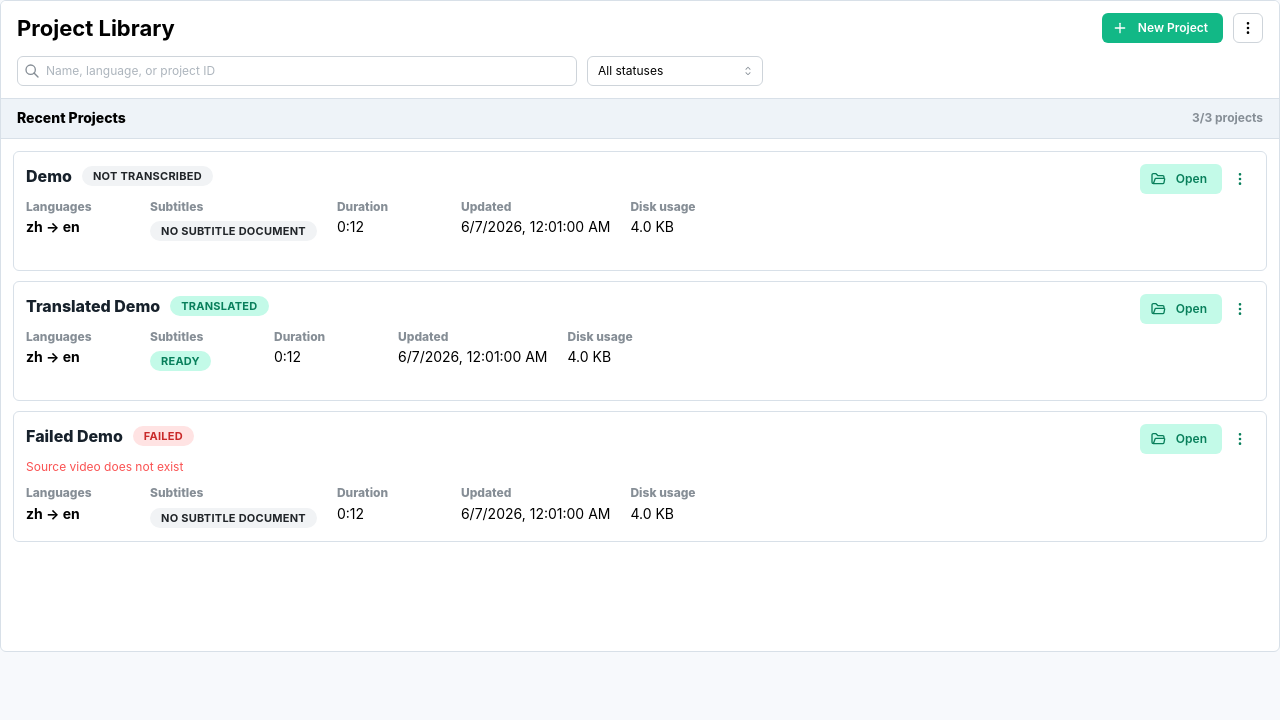
it: ProjectCenterPage › filters projects by search text and derived status
Check: the text "Translated Demo" is shown, box x1=26 y1=294 x2=160 y2=319
Type "Failed" into the field named "Search projects".
click(297, 71); type("Failed")  # box x1=17 y1=56 x2=577 y2=86
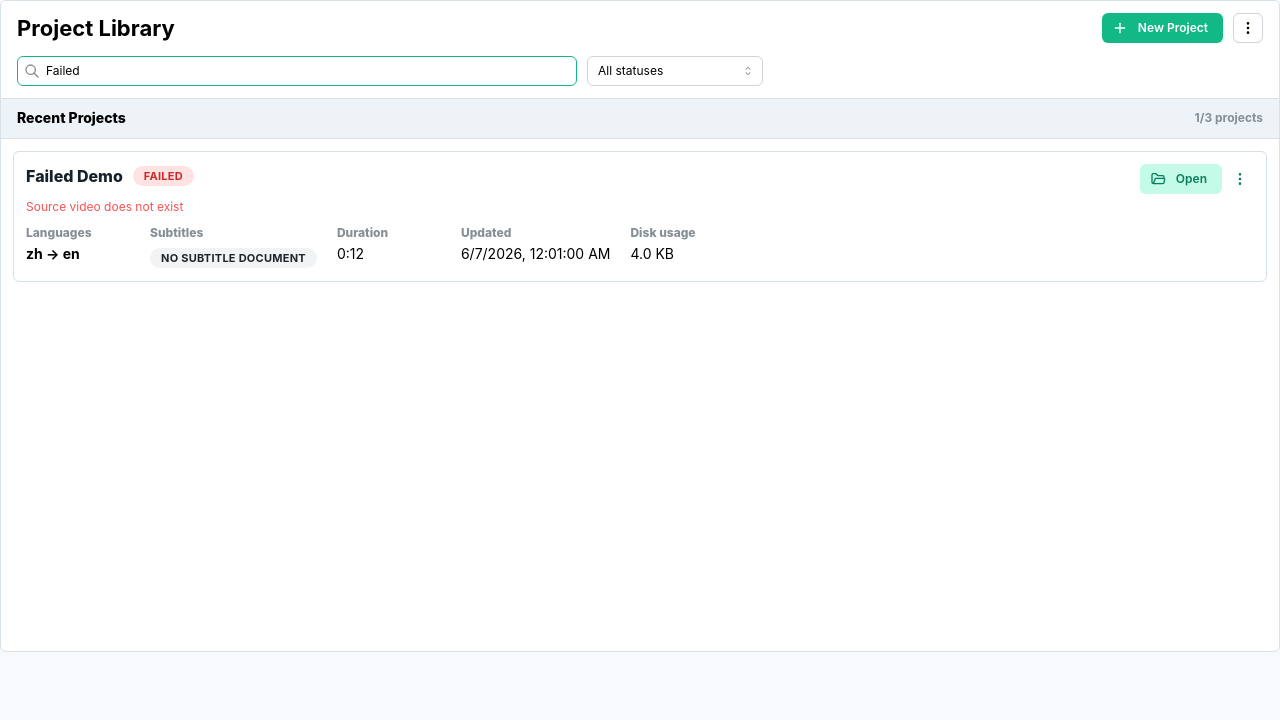
Check: the text "Failed Demo" is shown, box x1=26 y1=164 x2=123 y2=189
Check: the text "Translated Demo" is gone
Clear the field named "Search projects" at (297, 71), box x1=17 y1=56 x2=577 y2=86
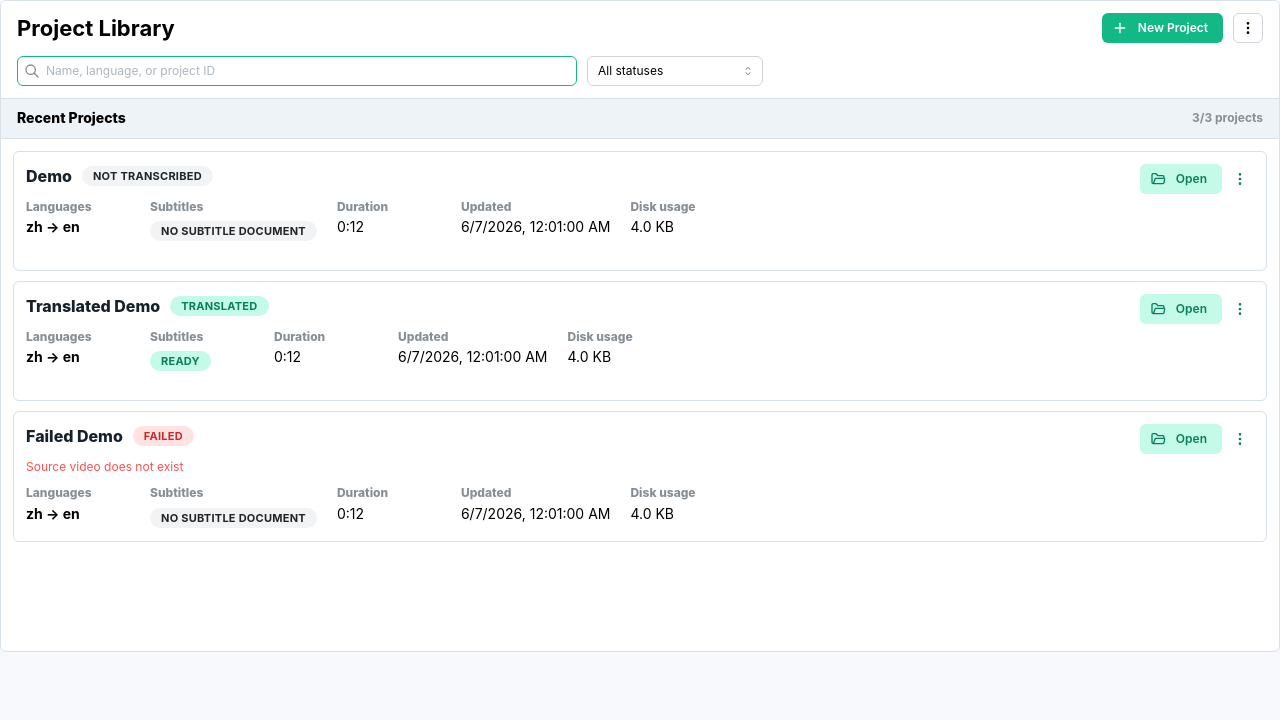
Select "Translated" in the dropdown named "Status filter" at (675, 71), box x1=587 y1=56 x2=763 y2=86
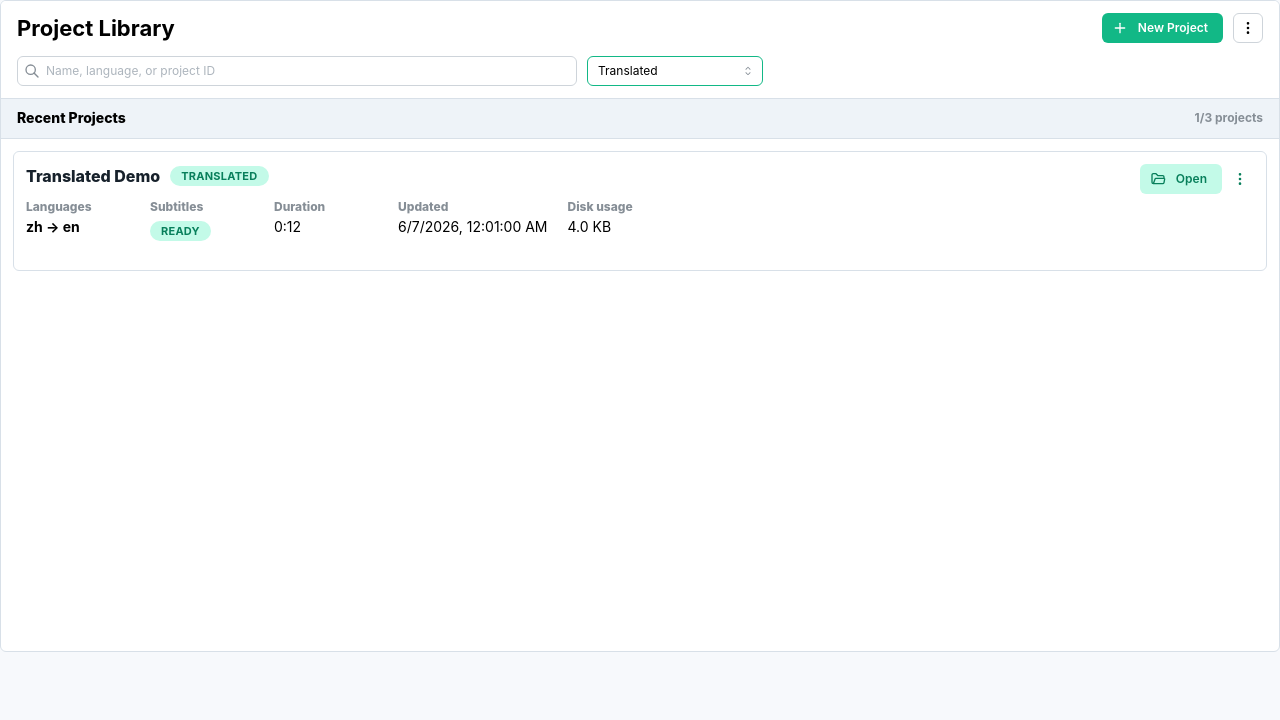
Check: the text "Translated Demo" is shown, box x1=26 y1=164 x2=160 y2=189
Check: the text "Failed Demo" is gone
